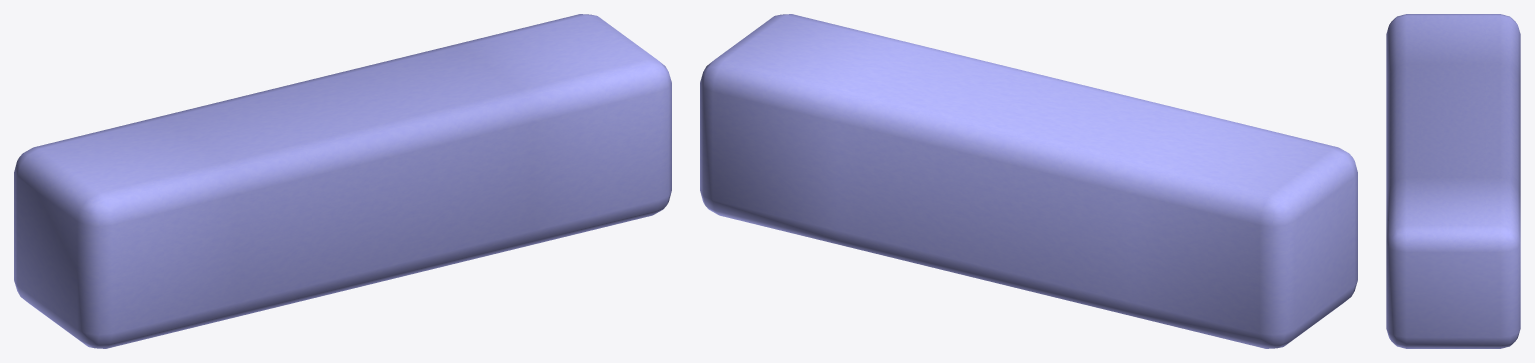
File: __clay_block_04_45.obj
3 renders of one model, left to right at view 1: azimuth 30°, elevation 25°; view 2: azimuth 150°, elevation 25°; view 3: azimuth 270°, elevation 25°, orthographic. The views are drawn at different scales.
Visible parts, largest first — view 1: clay_block_45; view 2: clay_block_45; view 3: clay_block_45.
Part boxes in pixels (x1=…): clay_block_45: x1=14, y1=14, x2=671, y2=348; clay_block_45: x1=700, y1=14, x2=1357, y2=348; clay_block_45: x1=1386, y1=14, x2=1520, y2=348.
Size of the model in its own units: 4 by 1 by 1.
1 material, 1 textured.
